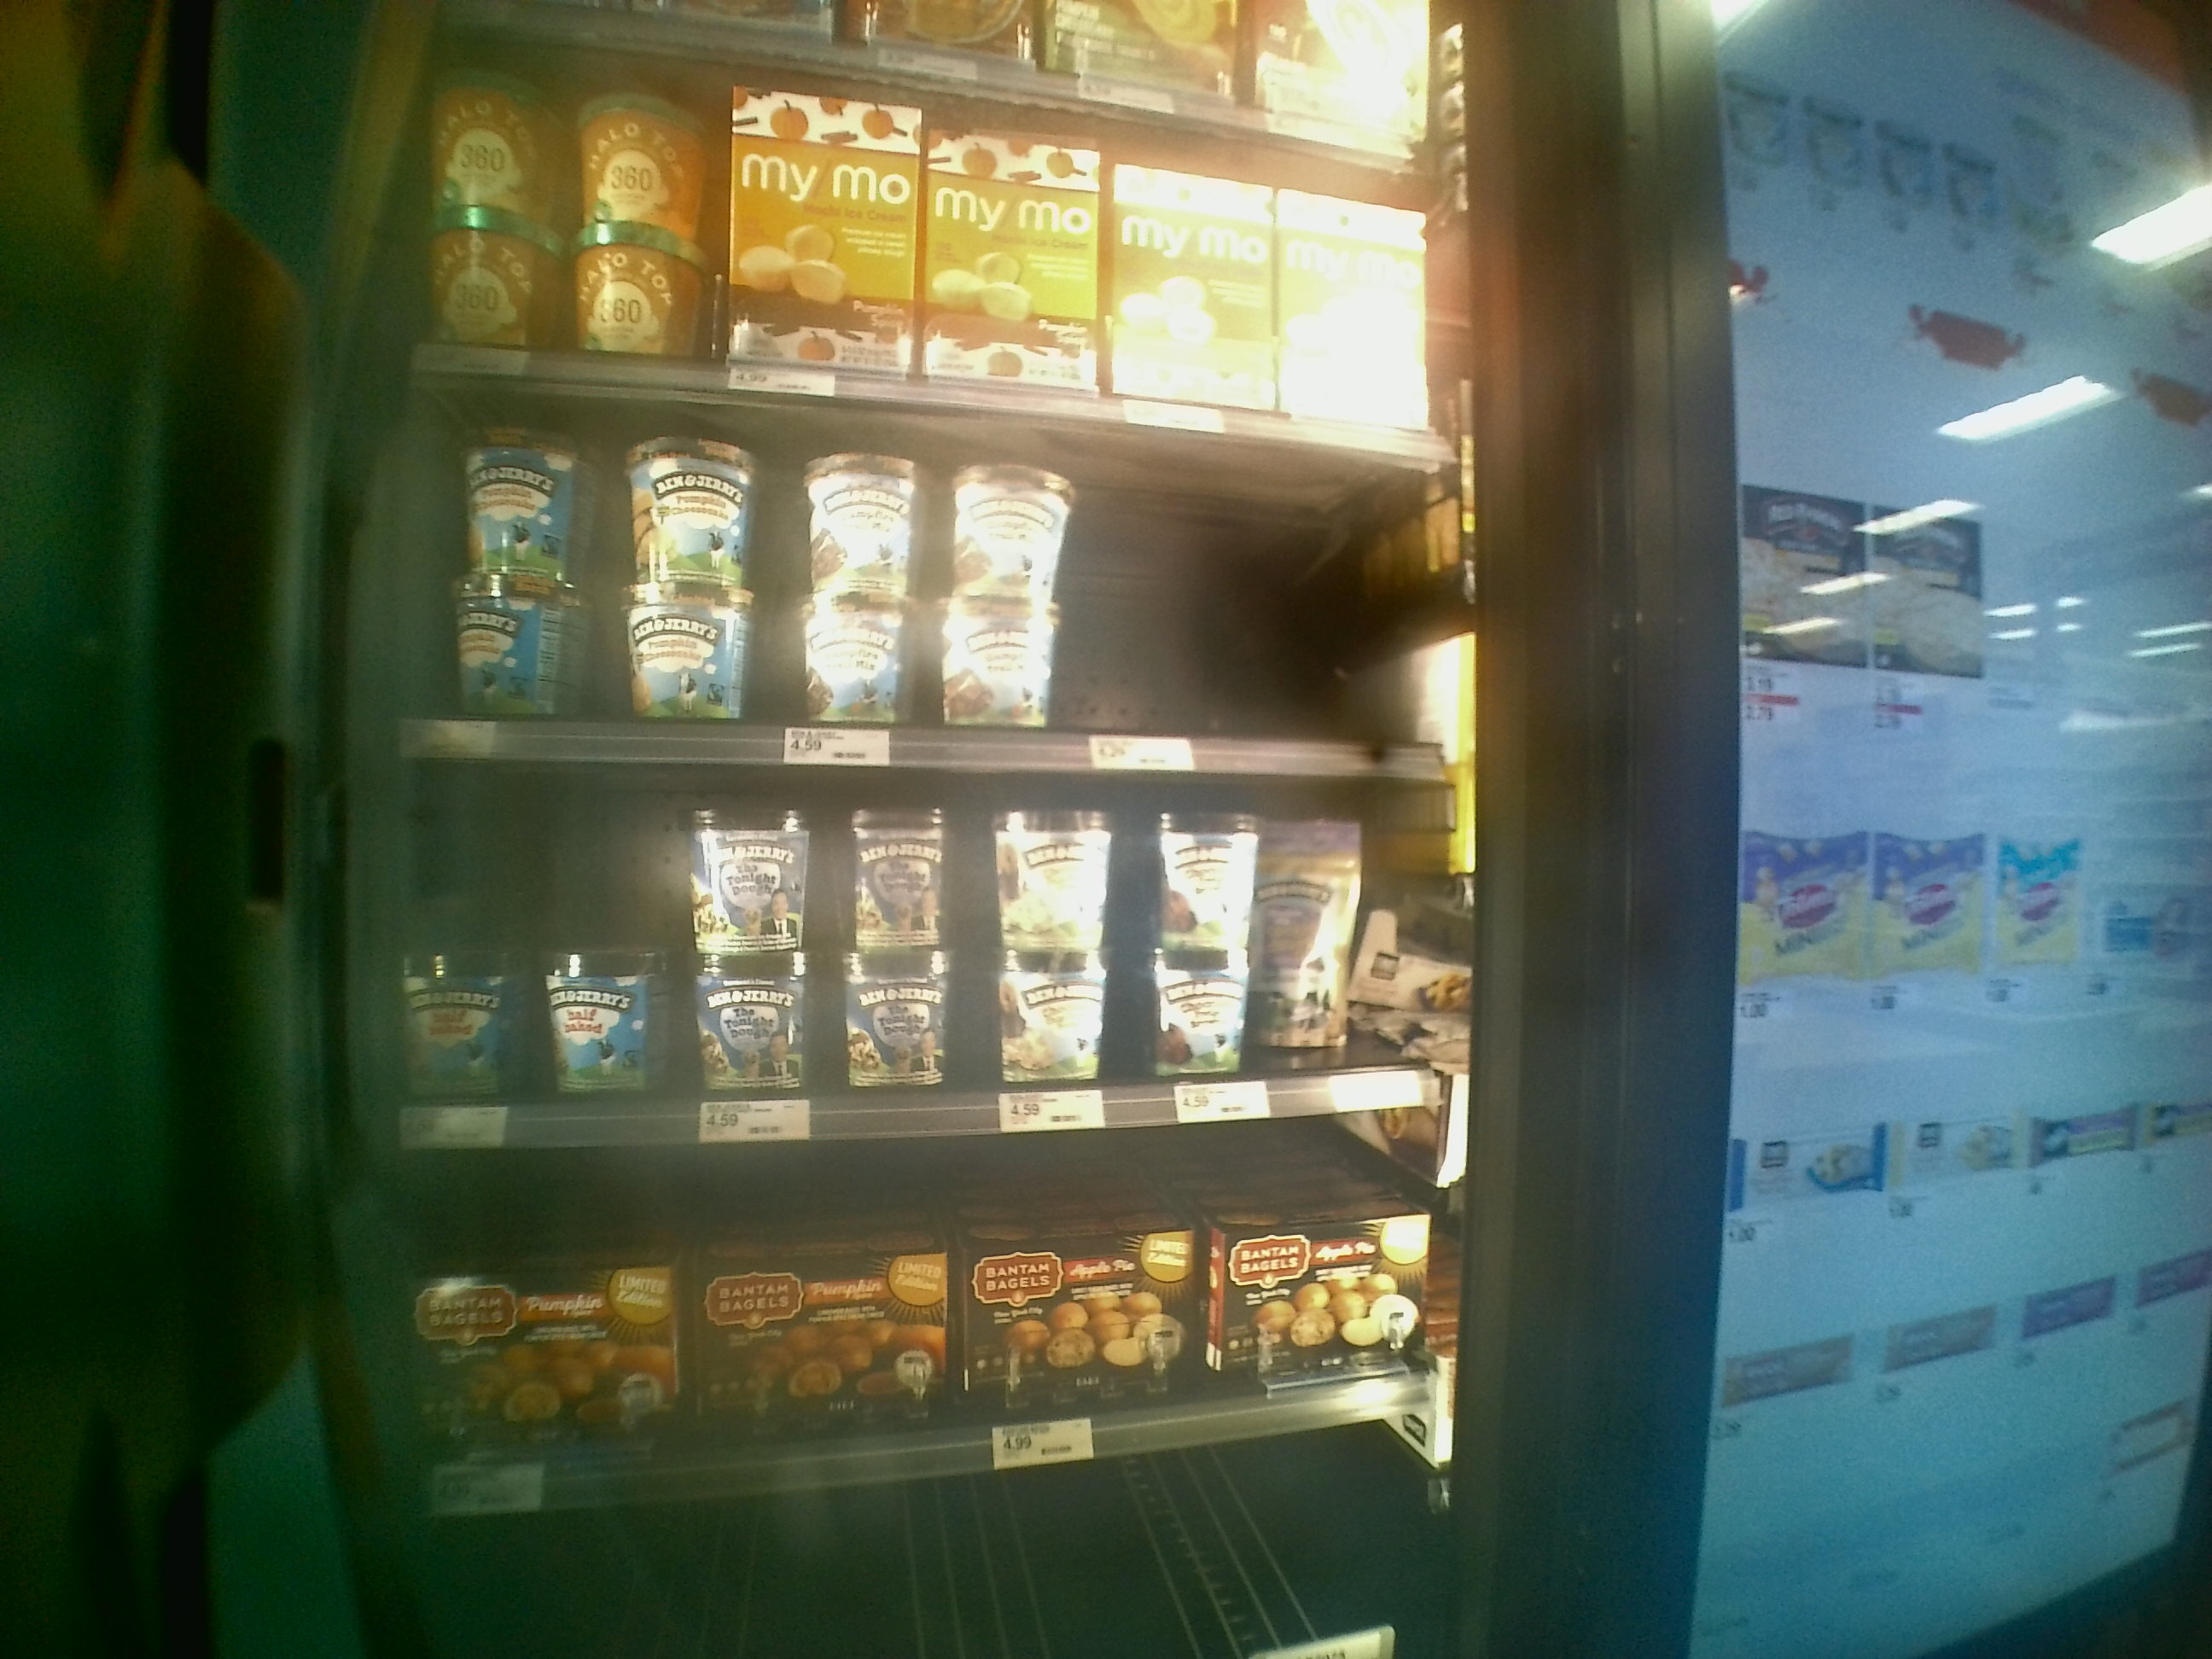shelf: (380, 28, 1474, 476), (380, 411, 1468, 781), (350, 791, 1463, 1143), (361, 1150, 1449, 1495)
